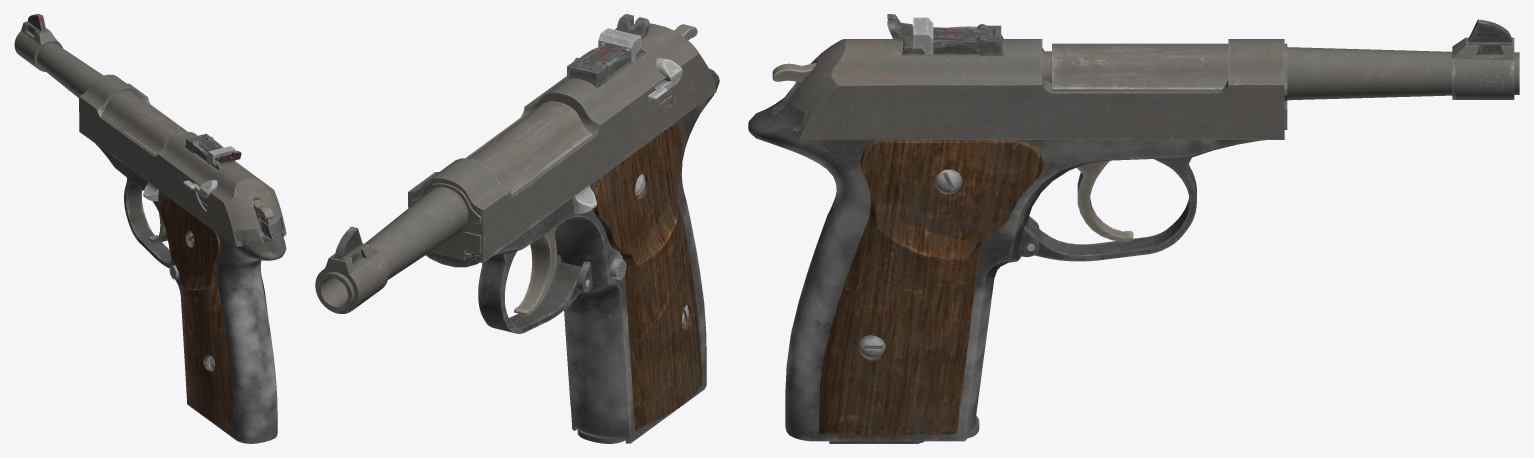
File: fps-pistol.glb
The picture shows the model from 3 angles, left to right: view 1: azimuth 30°, elevation 25°; view 2: azimuth 150°, elevation 25°; view 3: azimuth 270°, elevation 25°; orthographic projection. The views are drawn at different scales.
Parts seen in each view (by area): view 1: service_pistol_pistol_a, service_pistol_slide_a, service_pistol_hammer_a; view 2: service_pistol_pistol_a, service_pistol_slide_a, service_pistol_trigger_a; view 3: service_pistol_pistol_a, service_pistol_slide_a, service_pistol_trigger_a.
Part boxes in pixels (bbox=[...]): service_pistol_pistol_a: bbox=[14, 14, 286, 443]; service_pistol_slide_a: bbox=[79, 74, 286, 246]; service_pistol_hammer_a: bbox=[252, 199, 273, 235]; service_pistol_pistol_a: bbox=[315, 68, 719, 443]; service_pistol_slide_a: bbox=[408, 14, 716, 262]; service_pistol_trigger_a: bbox=[514, 227, 556, 315]; service_pistol_pistol_a: bbox=[748, 19, 1519, 441]; service_pistol_slide_a: bbox=[789, 14, 1284, 139]; service_pistol_trigger_a: bbox=[1077, 160, 1133, 241].
Bounding box in the file's own units: 0.0318 × 0.1307 × 0.2219.
Materials: 1 (1 with a texture image).
